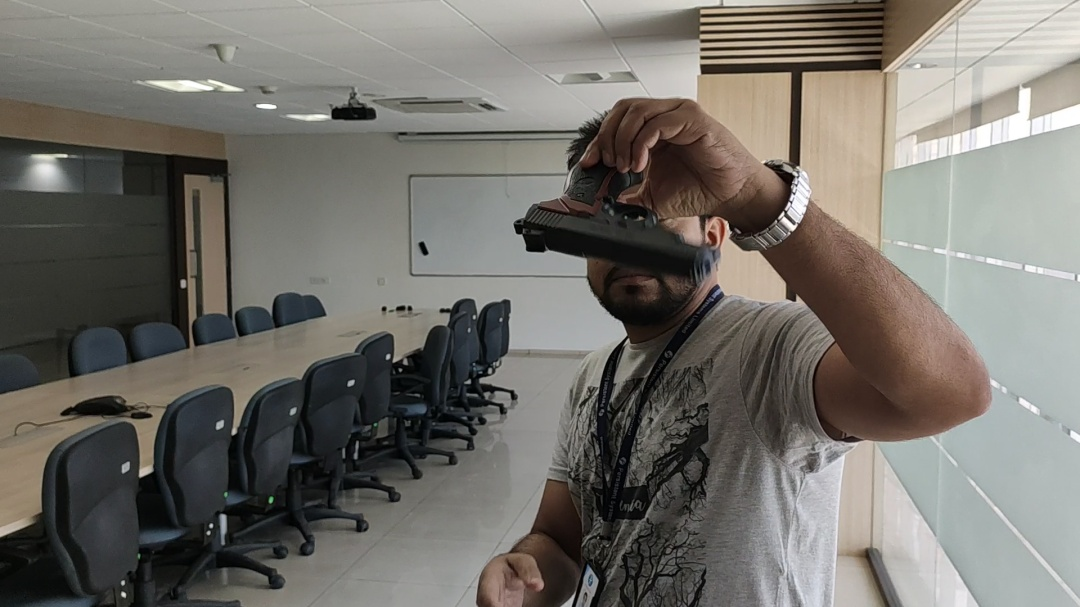gun: (514, 186, 715, 286)
